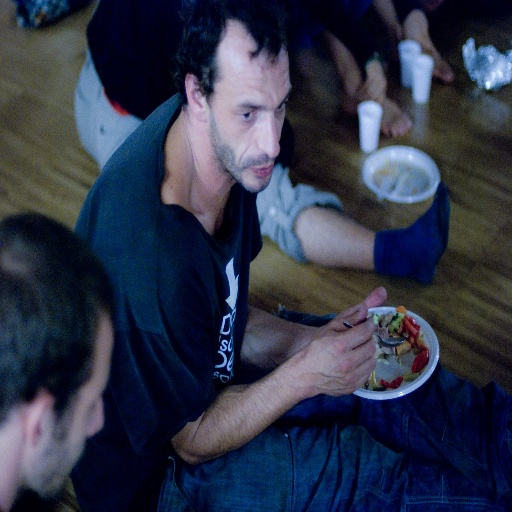hand: (310, 307, 377, 398), (331, 283, 387, 320), (355, 68, 389, 100)
